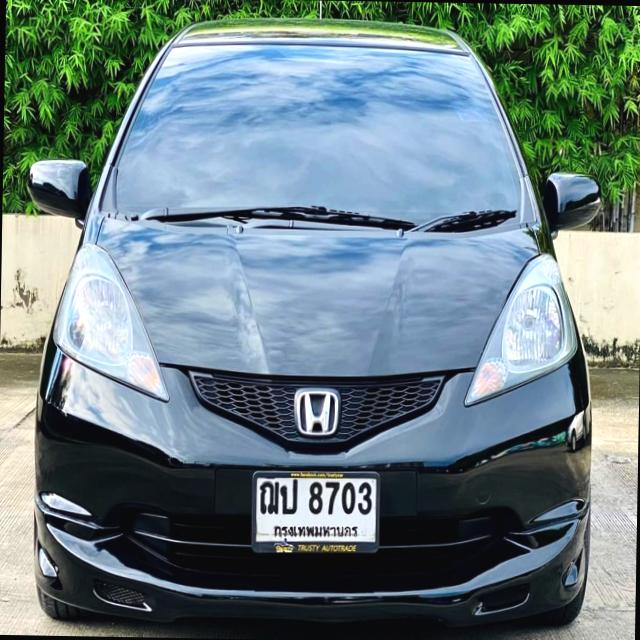license_plate: (249, 468, 380, 556)
